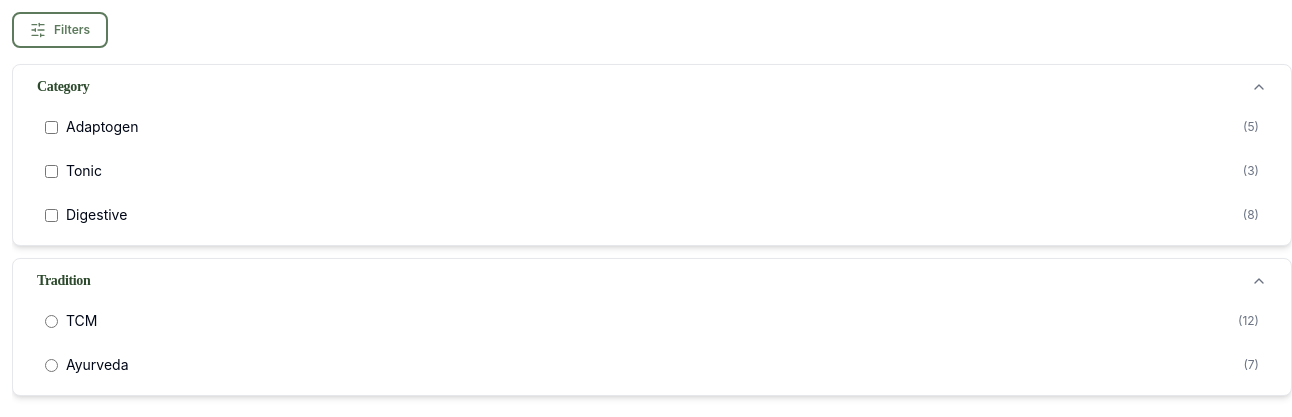
SearchFilters › Filter Group Expansion › expands collapsed group when header is clicked
The image size is (1292, 417).
Click the heading "Category" at (63, 86), box top-left (37, 79), bottom-right (89, 94)
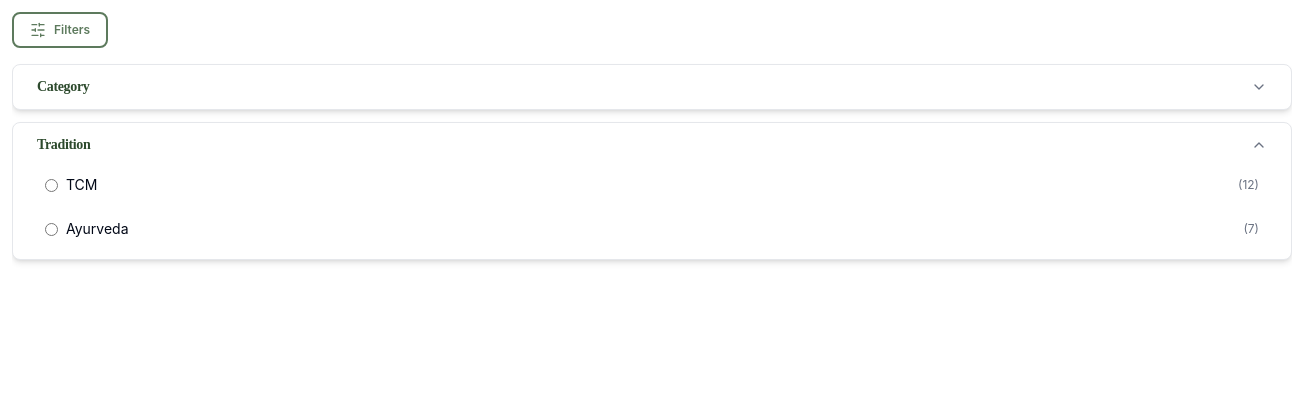
Expected: the text "Adaptogen" is gone
Click the heading "Category" at (63, 86), box top-left (37, 79), bottom-right (89, 94)
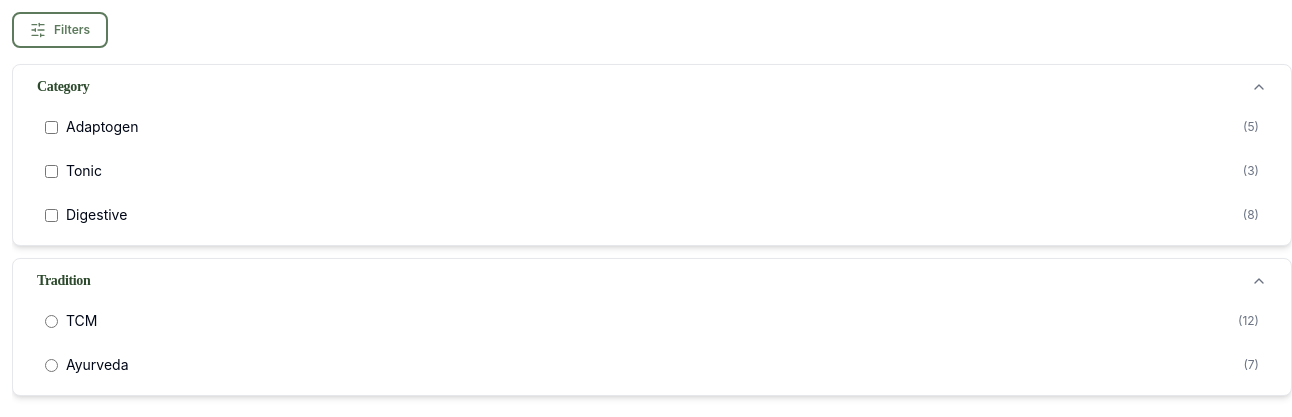
Expected: the text "Adaptogen" is shown, top-left (66, 118), bottom-right (138, 135)
